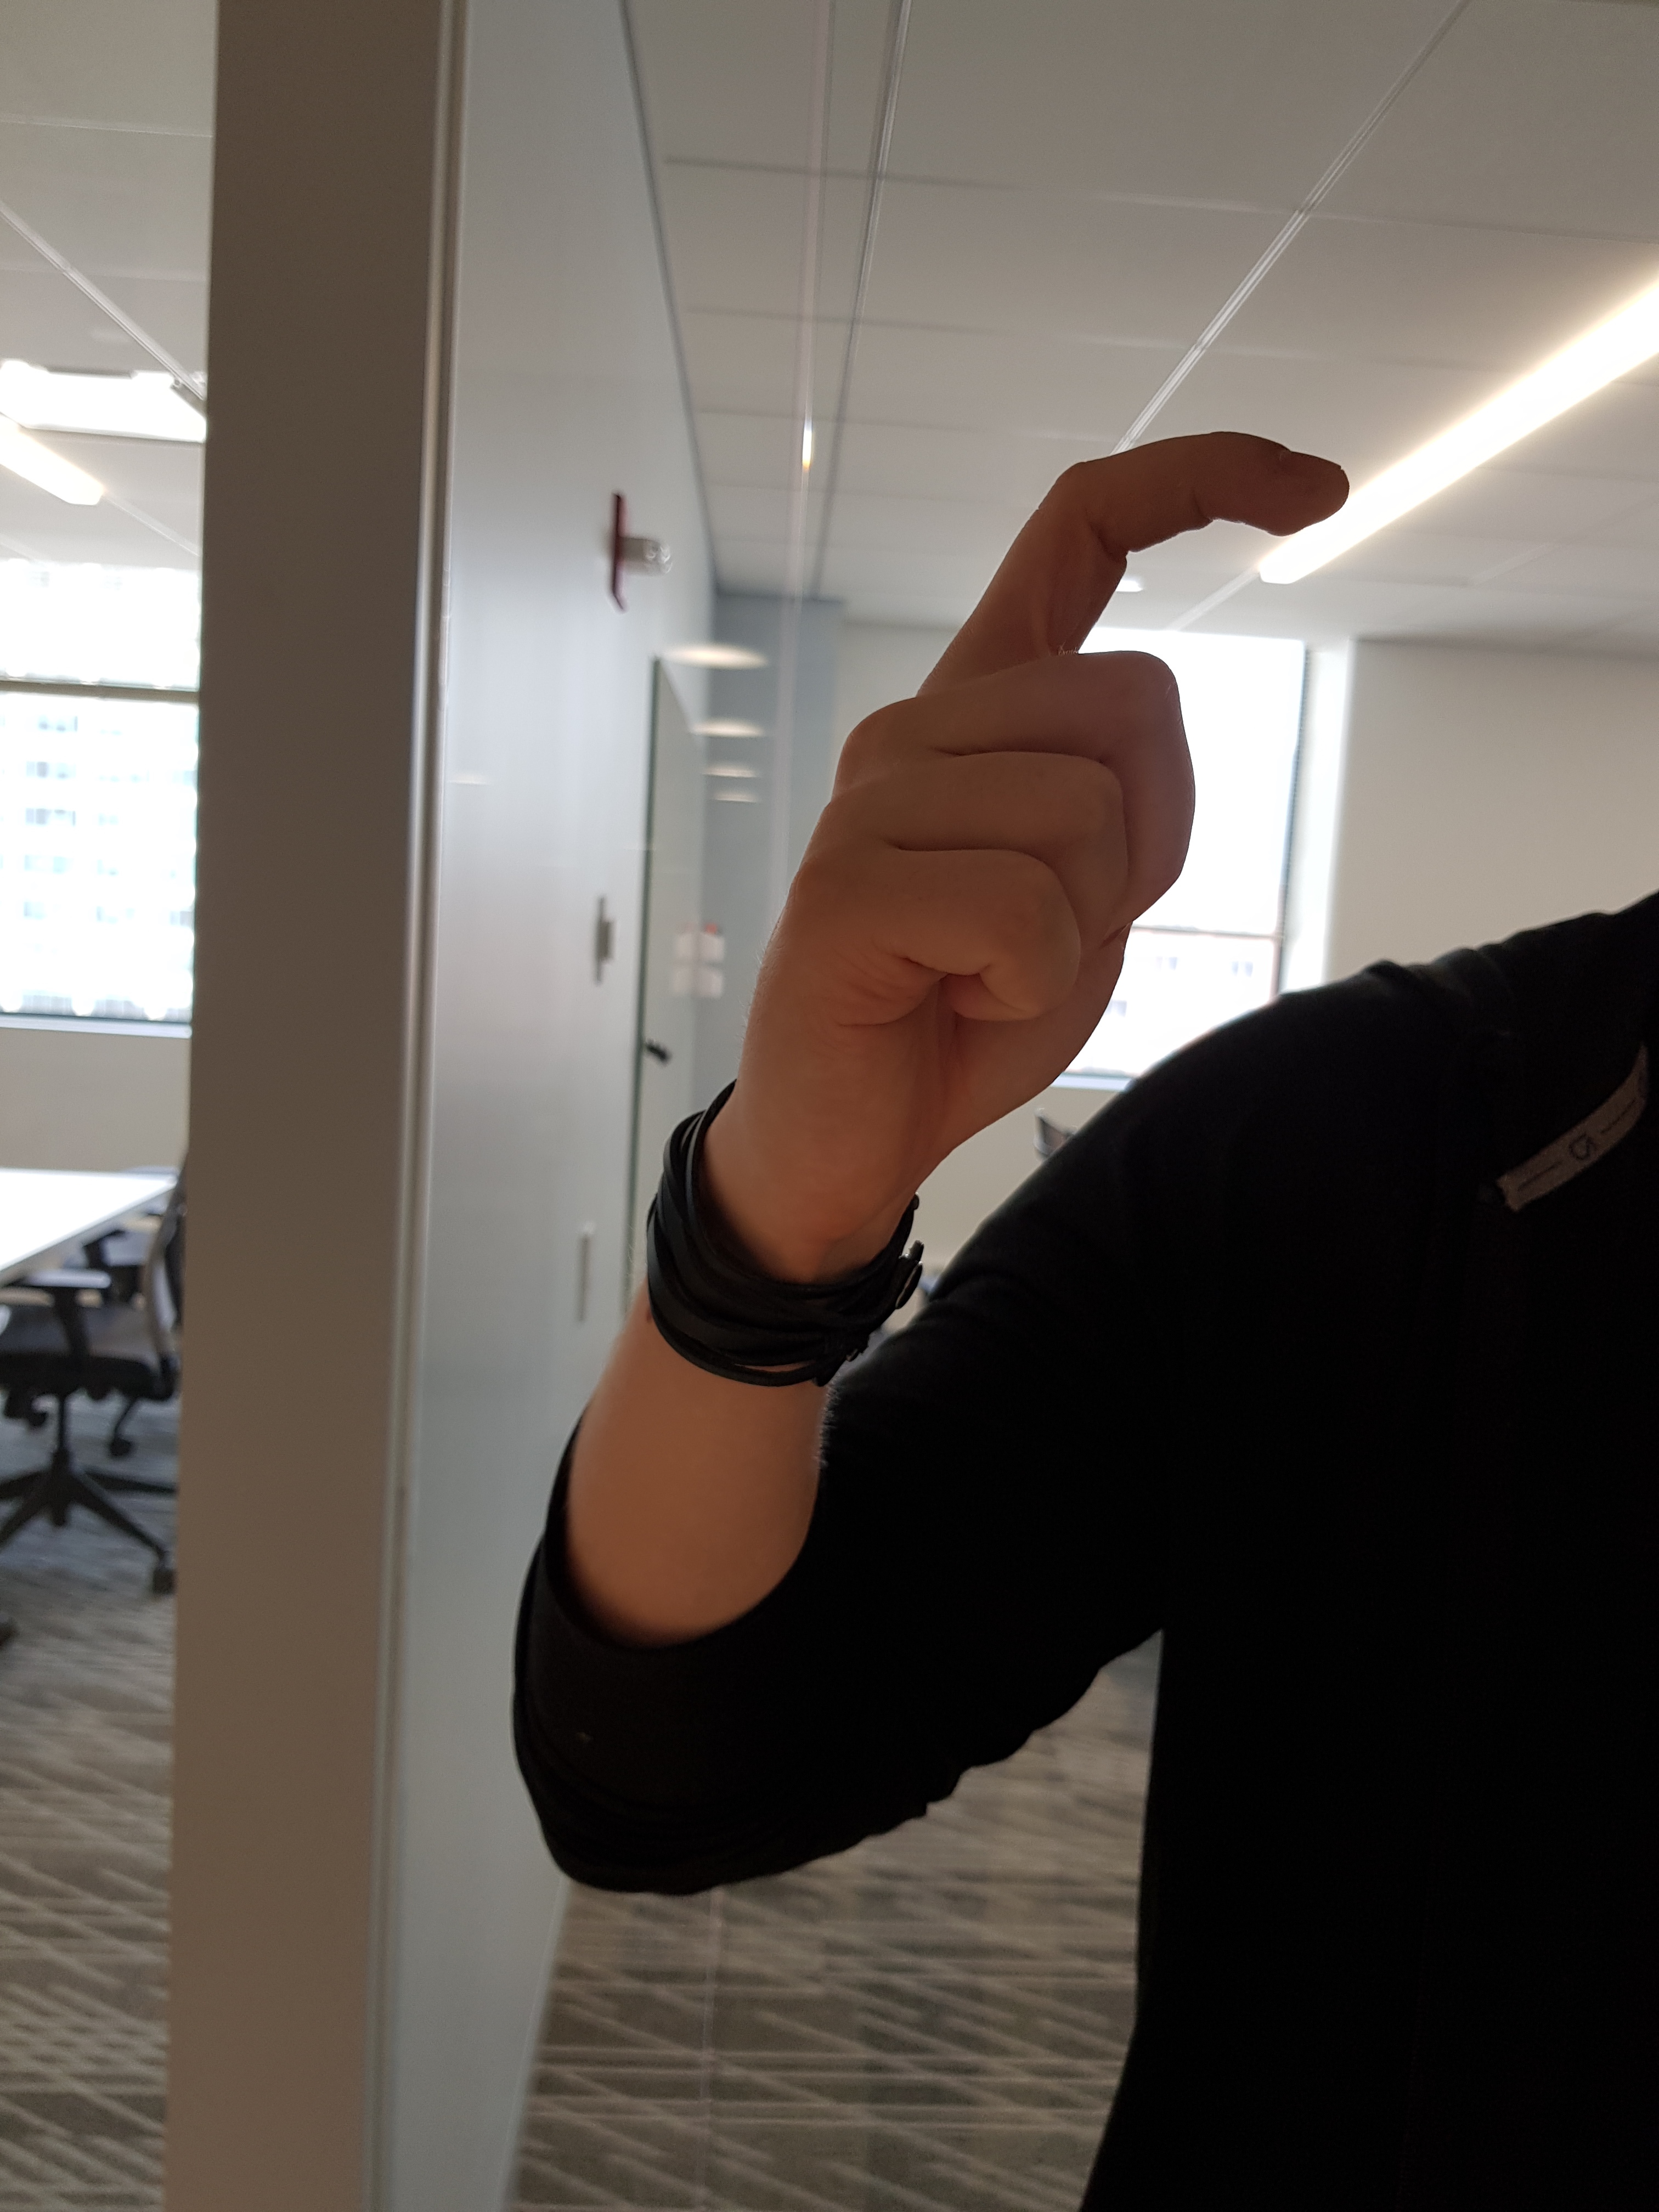x: (692, 381, 1396, 1282)
